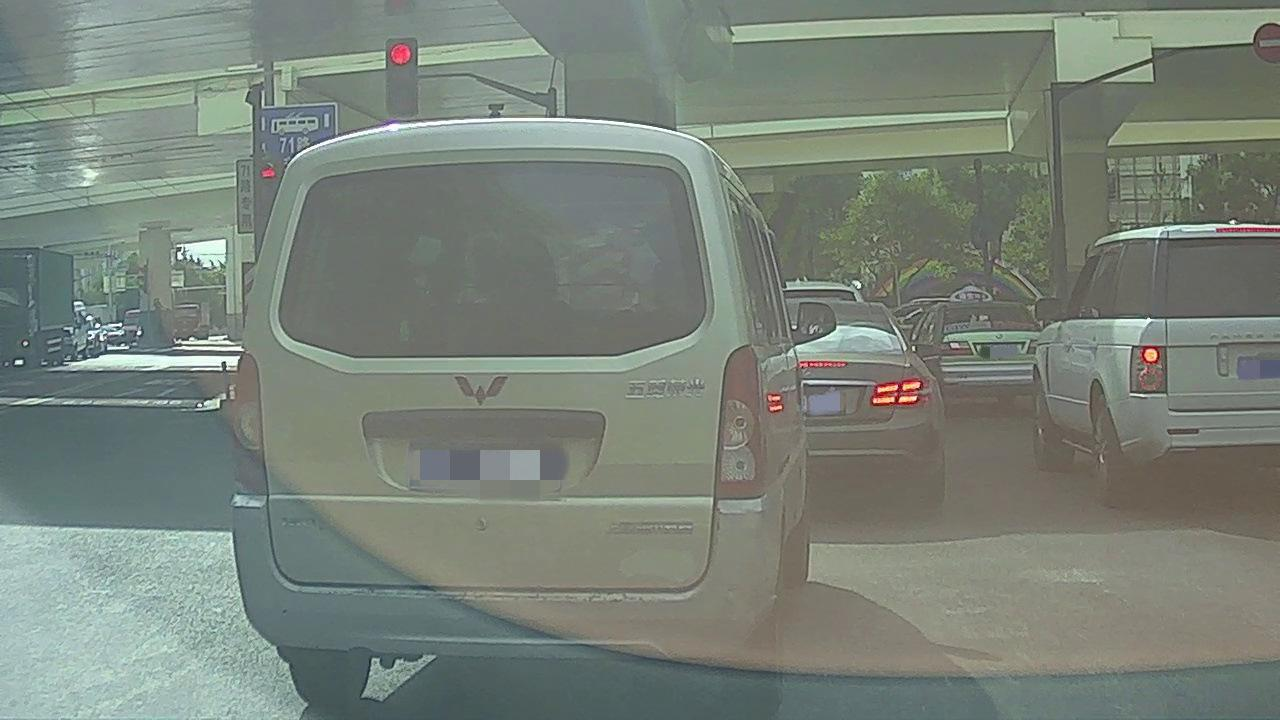traffic_light: (386, 41, 419, 115)
